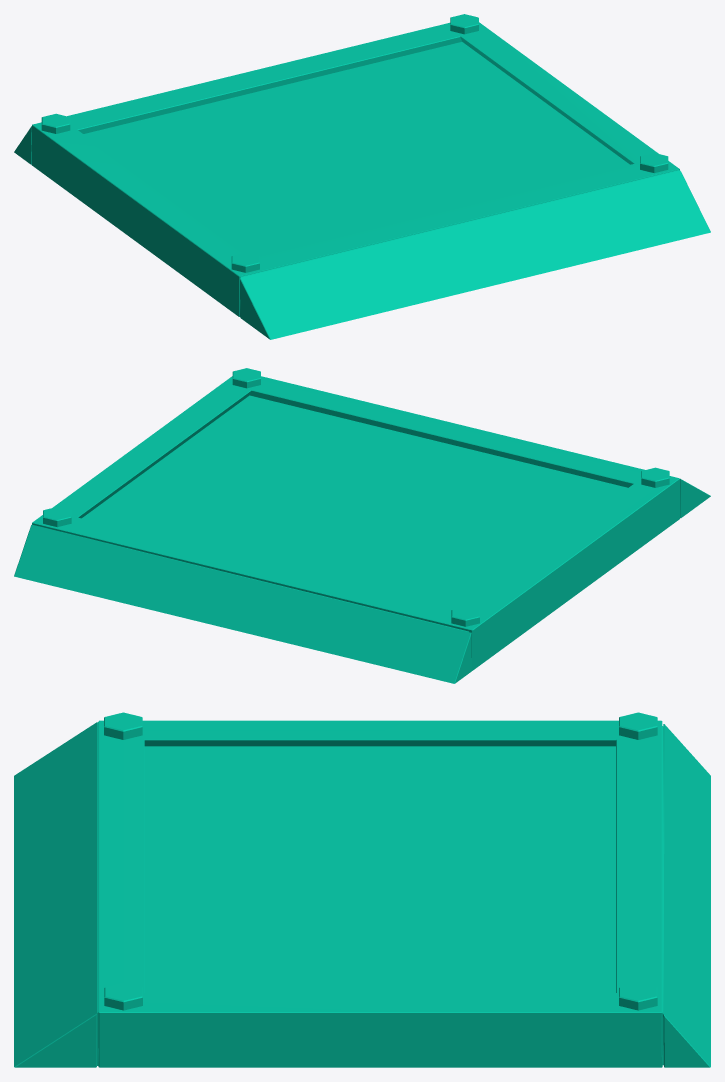
File: ElevatorBase.fbx
The picture shows the model from 3 angles, top to bottom: view 1: azimuth 30°, elevation 25°; view 2: azimuth 150°, elevation 25°; view 3: azimuth 270°, elevation 25°; orthographic projection. The views are drawn at different scales.
Visible parts, largest first — view 1: ElevatorBase_lPoly; view 2: ElevatorBase_lPoly; view 3: ElevatorBase_lPoly.
Boxes of the visible parts, left/top/right/bottom form: ElevatorBase_lPoly: left=14, top=14, right=710, bottom=339; ElevatorBase_lPoly: left=14, top=368, right=710, bottom=683; ElevatorBase_lPoly: left=14, top=712, right=710, bottom=1067.
Bounding box in the file's own units: 61.45 × 6.33 × 61.99.
